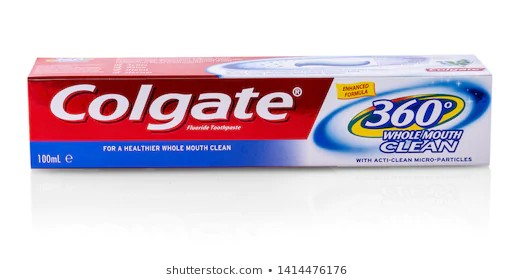colgate-small: (28, 53, 490, 170)
